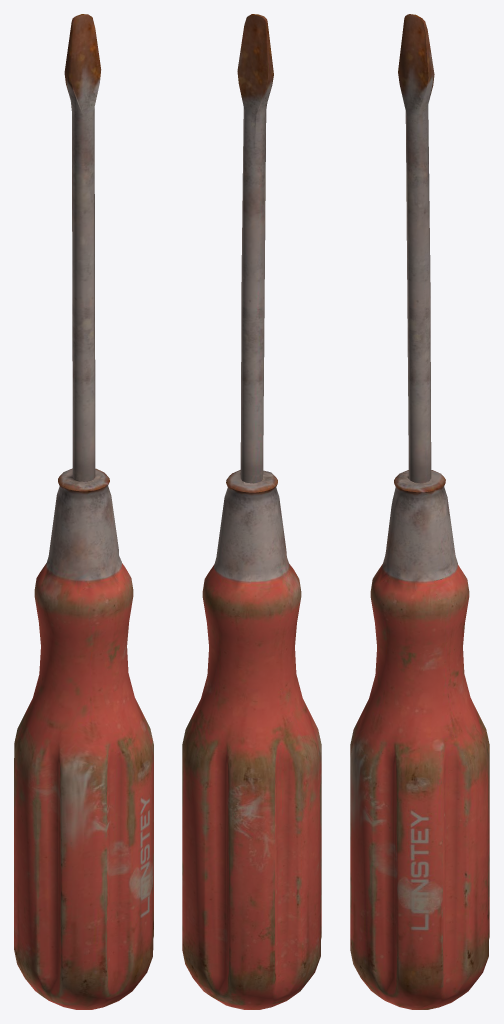
File: screwdriver.glb
3 renders of one model, left to right at view 1: azimuth 30°, elevation 25°; view 2: azimuth 150°, elevation 25°; view 3: azimuth 330°, elevation 25°, orthographic.
Visible parts, largest first — view 1: screwdriver; view 2: screwdriver; view 3: screwdriver.
Part boxes in pixels (bbox=[...]): screwdriver: bbox=[14, 14, 153, 1009]; screwdriver: bbox=[182, 14, 321, 1009]; screwdriver: bbox=[350, 14, 489, 1009].
Size of what is drawn, in the model's own units: 0.0271 by 0.209 by 0.0267.
Materials: 1 (1 with a texture image).
